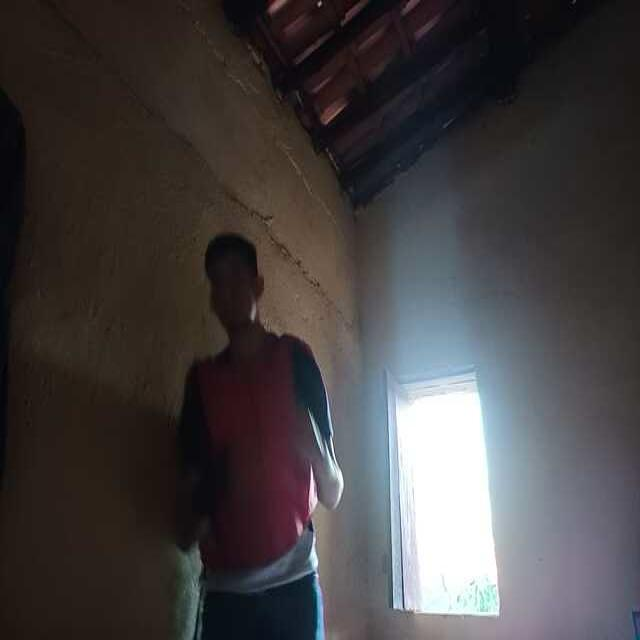colete: (194, 340, 322, 560)
pessoa: (178, 232, 343, 639)
